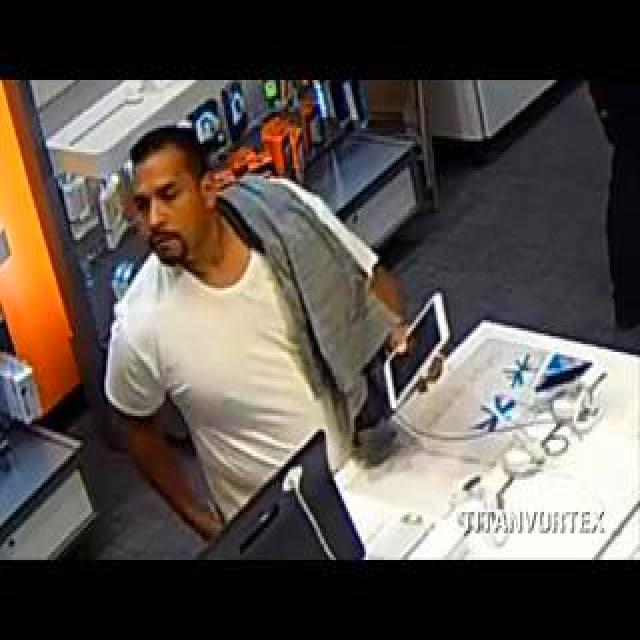Shoplifting: (91, 115, 493, 549)
